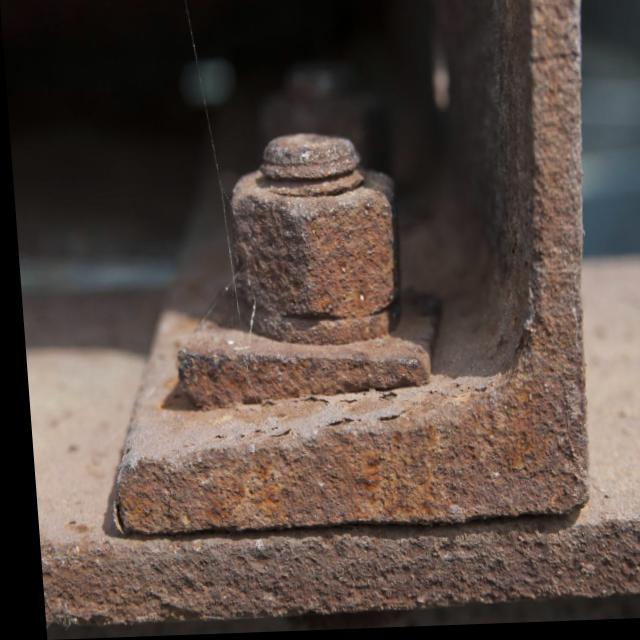Rusty bolt: (221, 152, 406, 340)
